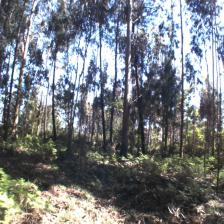trunktrack_idkeyframe: (119, 56, 131, 156), (8, 85, 22, 137), (100, 100, 106, 150), (138, 113, 145, 154), (178, 113, 184, 158), (52, 90, 57, 139), (110, 108, 114, 143)
